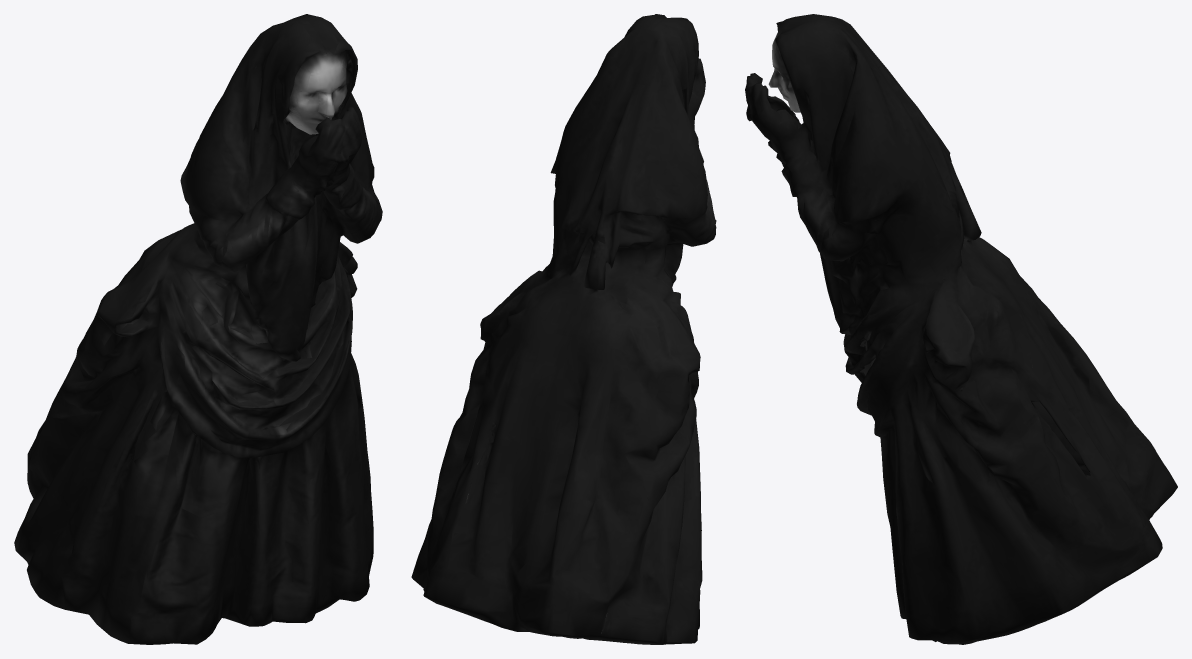
Rendered from margaret_ashgrove_ghost.glb.
3 renders of one model, left to right at view 1: azimuth 30°, elevation 25°; view 2: azimuth 150°, elevation 25°; view 3: azimuth 270°, elevation 25°, orthographic. The views are drawn at different scales.
Visible parts, largest first — view 1: RETOPO; view 2: RETOPO; view 3: RETOPO.
Boxes of the visible parts, bbox=[...] form: RETOPO: bbox=[14, 14, 382, 644]; RETOPO: bbox=[411, 14, 716, 644]; RETOPO: bbox=[745, 14, 1177, 644].
Size of the model in its own units: 0.7401 by 1.5 by 1.01.
1 material, 1 textured.
